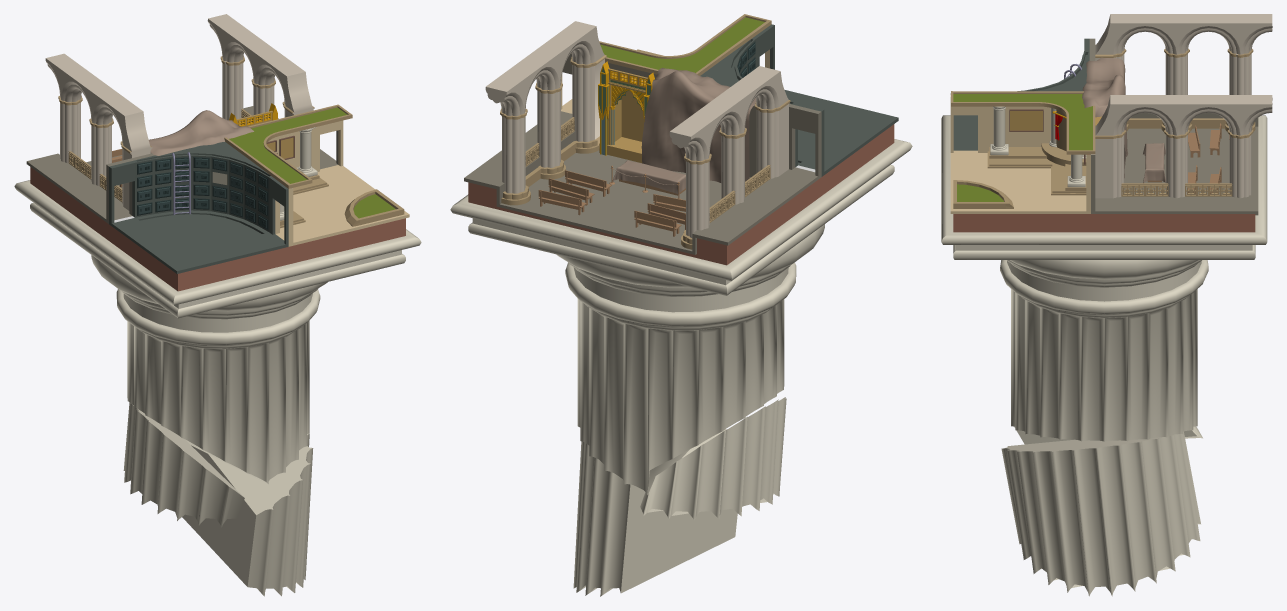
File: cenario.glb
The picture shows the model from 3 angles, left to right: view 1: azimuth 30°, elevation 25°; view 2: azimuth 150°, elevation 25°; view 3: azimuth 270°, elevation 25°; orthographic projection. The views are drawn at different scales.
Parts seen in each view (by area): view 1: Cube.003, parede.006, pilar, Cylinder.016, Cylinder.024, teto.001, parede.003, Plane.040, porta, porta.001, parede, cerca (+2 smaller); view 2: Cube.003, pilar, parede.006, Plane.040, Plane.039, teto.001, cadeiras, Cylinder.016, porta.001, Plane.042, cerca, porta (+1 smaller); view 3: Cube.003, pilar, parede.006, parede.003, teto.001, Plane.040, porta, parede, cerca, Cylinder.011, cadeiras, Cube.019 (+4 smaller).
Boxes of the visible parts, x1,y1,x2,y2 form: Cube.003: [14, 180, 421, 596]; parede.006: [26, 106, 409, 291]; pilar: [45, 14, 314, 210]; Cylinder.016: [133, 142, 271, 251]; Cylinder.024: [137, 157, 268, 229]; teto.001: [224, 104, 352, 188]; parede.003: [280, 178, 404, 228]; Plane.040: [148, 110, 253, 155]; porta: [269, 120, 343, 244]; porta.001: [106, 158, 135, 223]; parede: [132, 131, 311, 184]; cerca: [68, 109, 251, 202]; Cube.003: [450, 139, 912, 596]; pilar: [485, 21, 790, 249]; parede.006: [464, 90, 898, 265]; Plane.040: [641, 68, 755, 182]; Plane.039: [598, 61, 654, 162]; teto.001: [571, 14, 771, 75]; cadeiras: [538, 170, 685, 236]; Cylinder.016: [700, 38, 844, 164]; porta.001: [789, 103, 824, 176]; Plane.042: [612, 160, 685, 197]; cerca: [525, 117, 770, 222]; porta: [561, 24, 774, 109]; Cube.003: [941, 115, 1267, 596]; pilar: [1095, 14, 1272, 198]; parede.006: [950, 113, 1258, 232]; parede.003: [953, 151, 1086, 208]; teto.001: [951, 91, 1095, 154]; Plane.040: [1082, 57, 1127, 178]; porta: [950, 93, 1095, 211]; parede: [987, 51, 1095, 151]; cerca: [1121, 183, 1232, 196]; Cylinder.011: [989, 143, 1086, 190]; cadeiras: [1188, 123, 1229, 194]; Cube.019: [1009, 109, 1085, 164].
Bounding box in the file's own units: 23.4 × 43.98 × 26.42.
